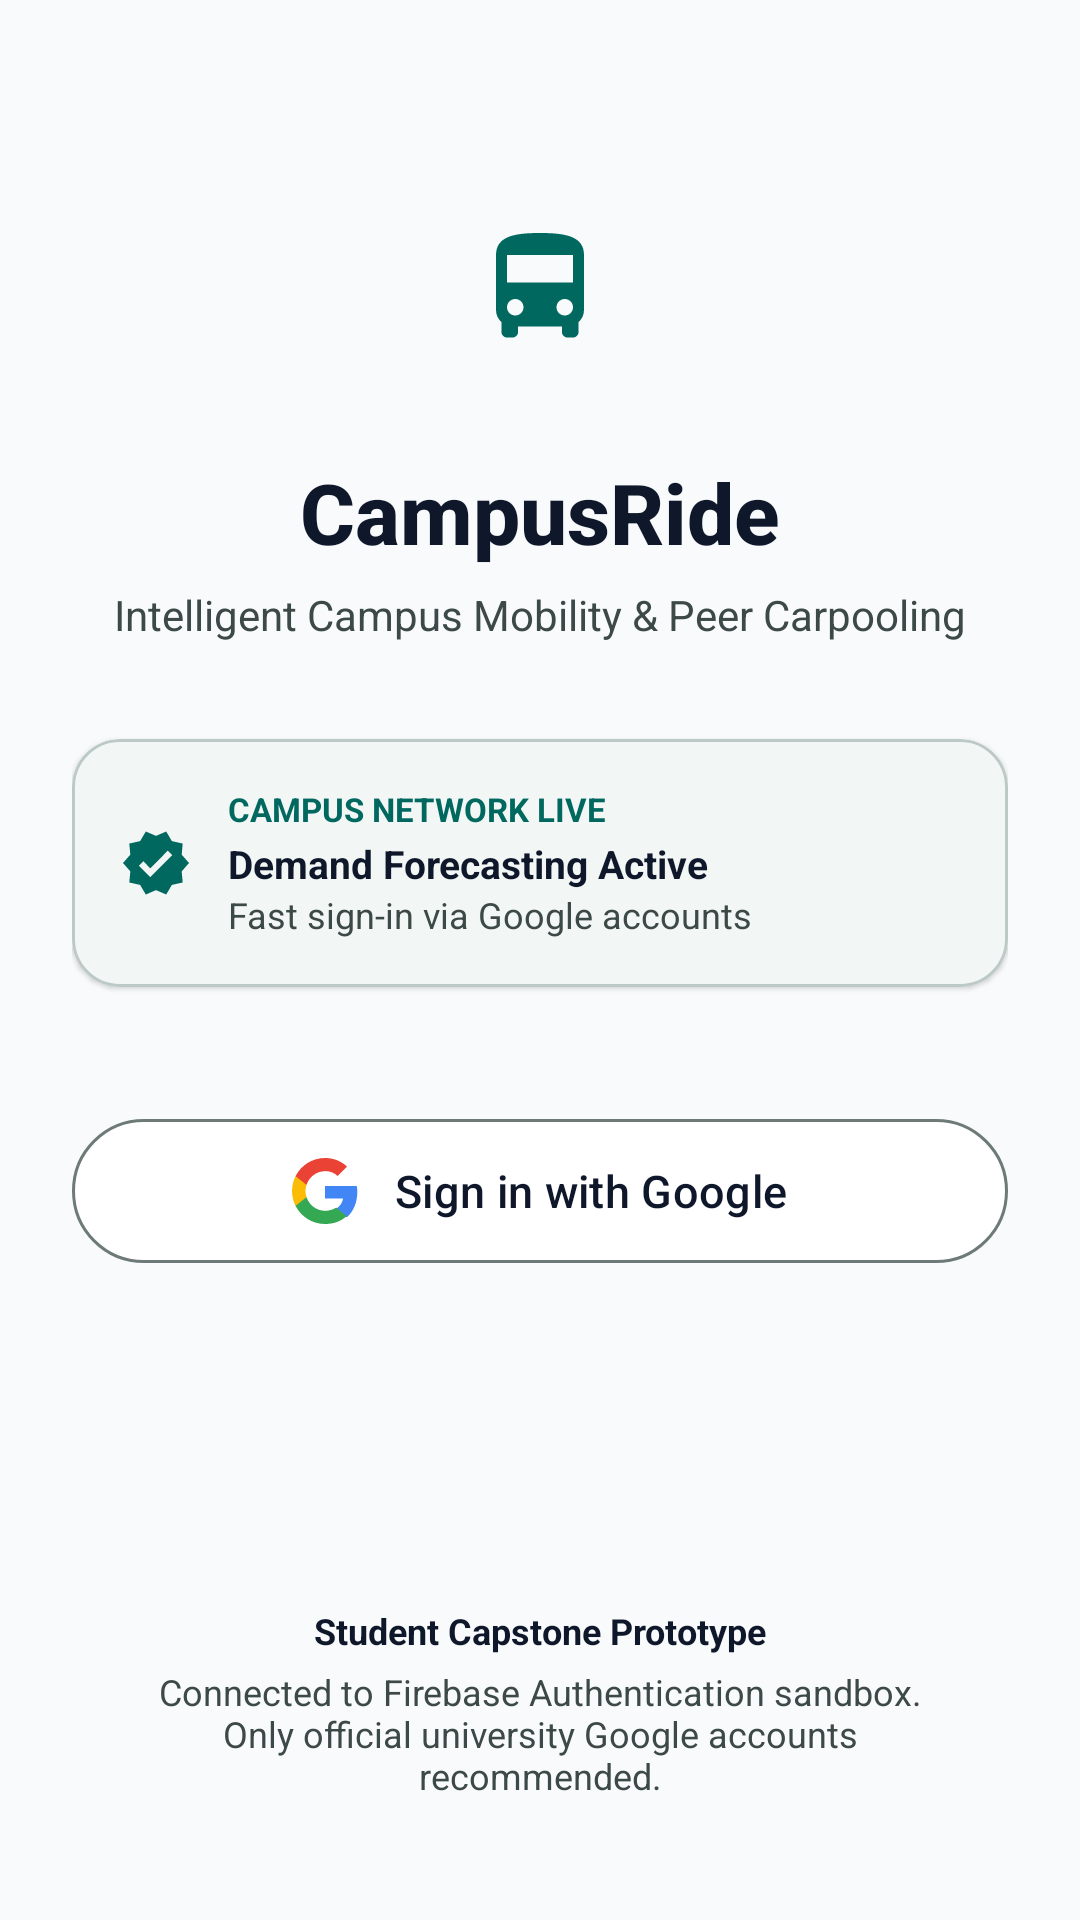

Icon click points for this 1080×1920 phone screenshot, format (x,y):
directions bus: (540,285)
verified: (156,863)
